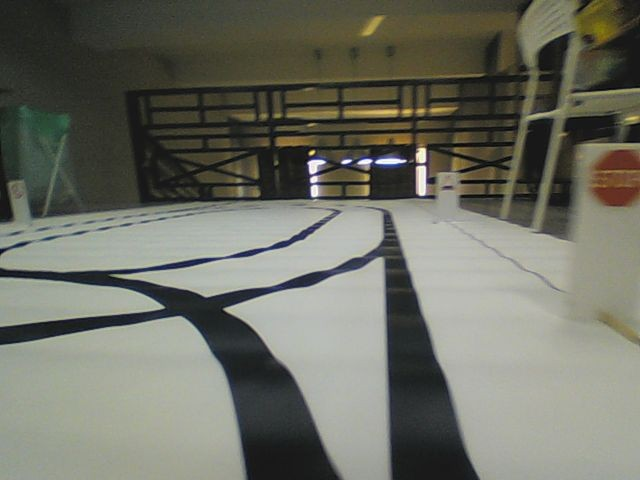Stop: (587, 149, 640, 208)
